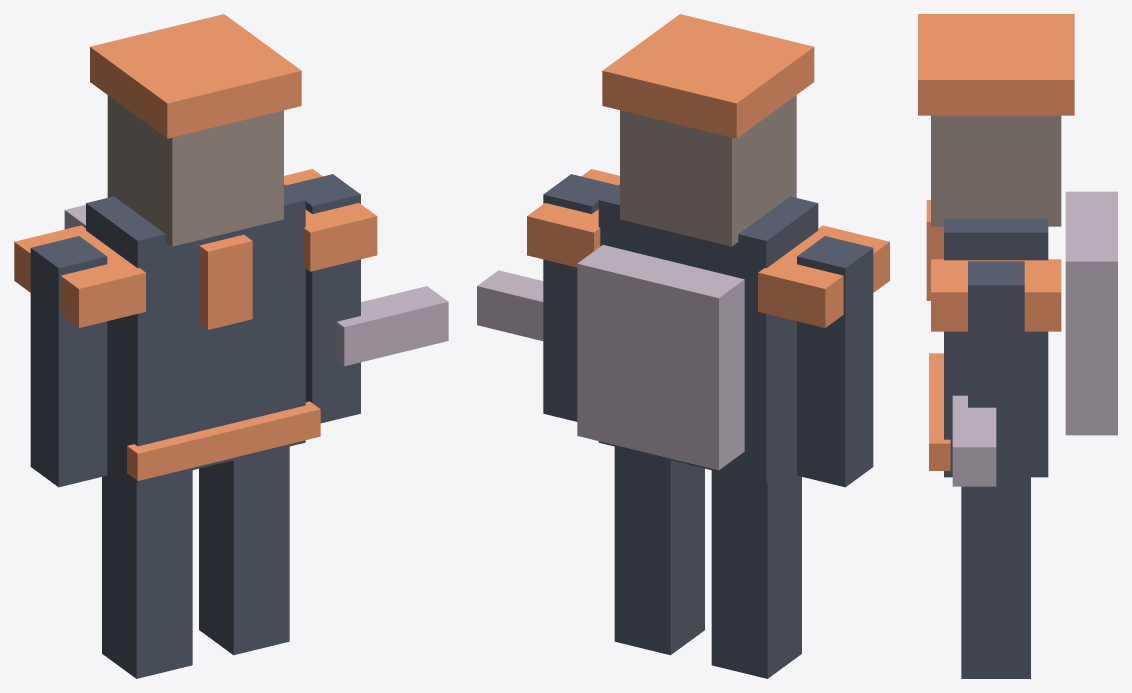
The model's file is 17_bex_gantryn_archivist_near_fuel.glb.
3 renders of one model, left to right at view 1: azimuth 30°, elevation 25°; view 2: azimuth 150°, elevation 25°; view 3: azimuth 270°, elevation 25°, orthographic.
Parts seen in each view (by area): view 1: Bex Gantryn, Archivist near Fuel; view 2: Bex Gantryn, Archivist near Fuel; view 3: Bex Gantryn, Archivist near Fuel.
Part boxes in pixels (box(x1,y1,x2,y2)): Bex Gantryn, Archivist near Fuel: box(14, 14, 448, 678); Bex Gantryn, Archivist near Fuel: box(477, 14, 889, 678); Bex Gantryn, Archivist near Fuel: box(918, 14, 1117, 678).
Bounding box in the file's own units: 0.9745 × 1.43 × 0.4373.
